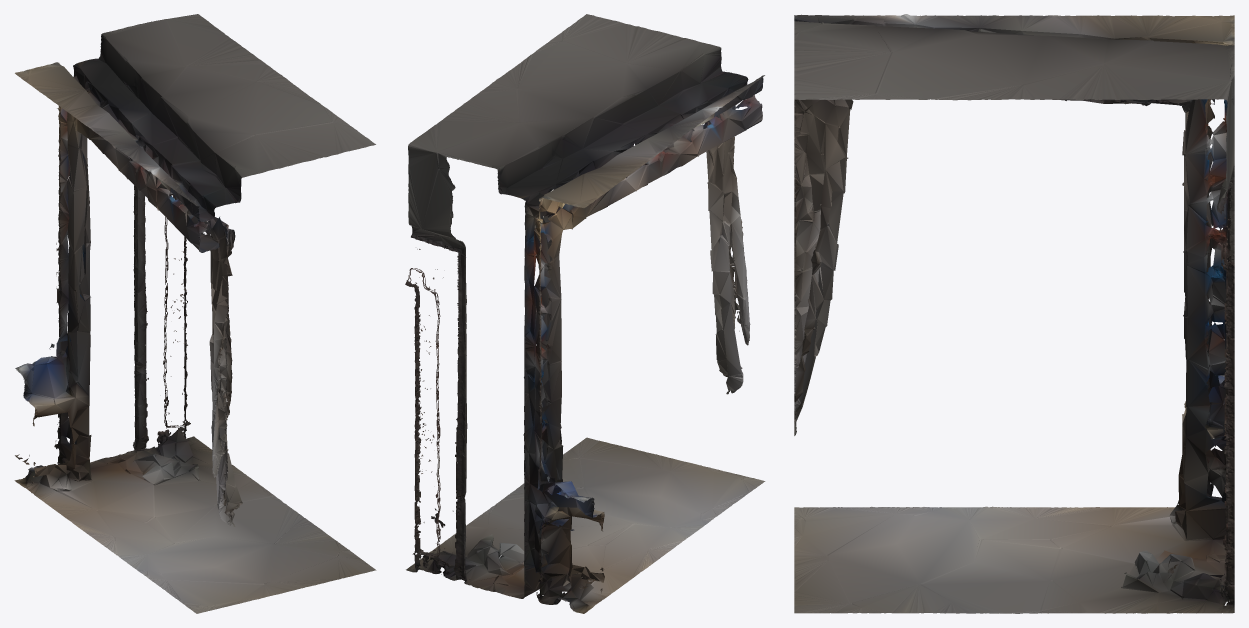
File: coarse.glb
3 renders of one model, left to right at view 1: azimuth 30°, elevation 25°; view 2: azimuth 150°, elevation 25°; view 3: azimuth 270°, elevation 25°, orthographic. The views are drawn at different scales.
Size of the model in its own units: 1.36 by 3.08 by 2.39.
